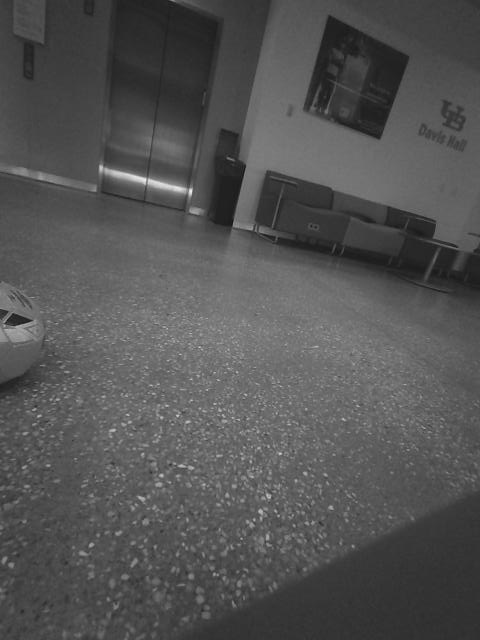ball: (72, 162, 206, 291)
